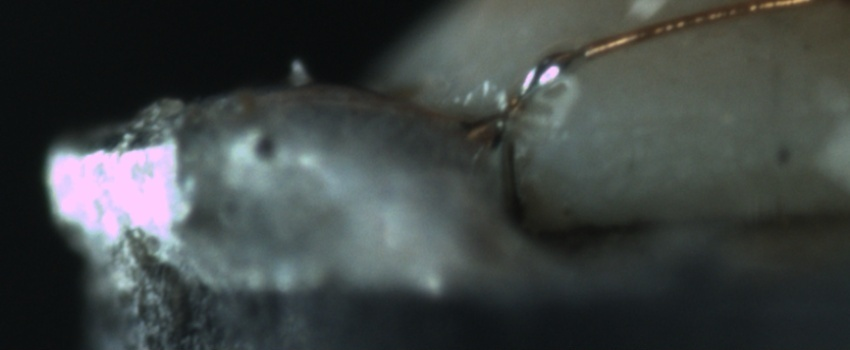DL: (568, 89, 727, 153)
TB: (514, 45, 583, 103)
TTCW: (474, 26, 639, 146)
